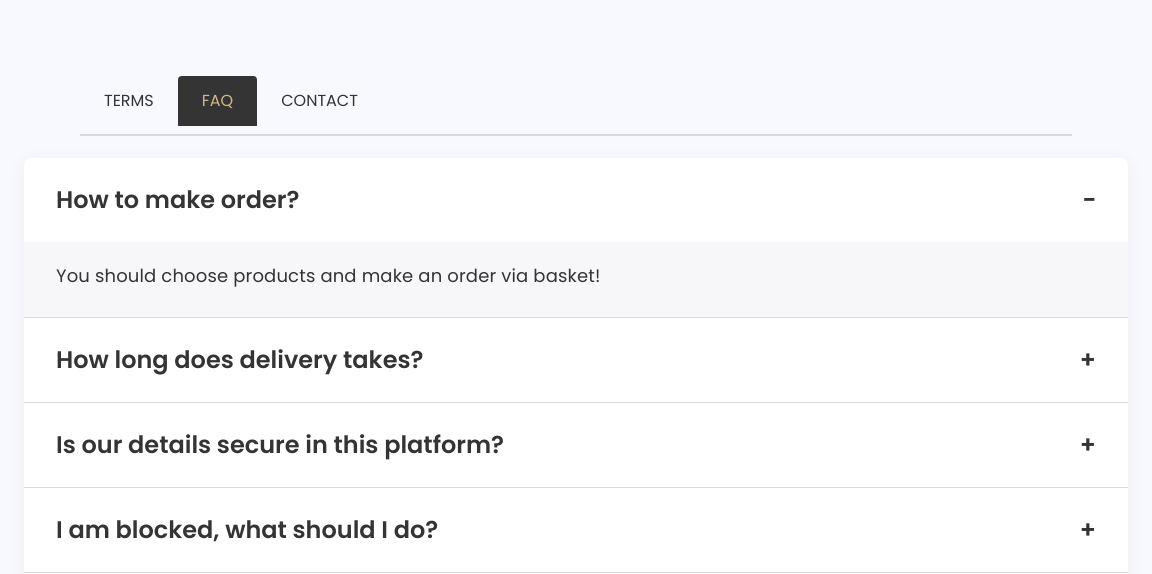
Test: FAQ expands and contact does not claim a message was sent
This screenshot has width=1152, height=574.
(page scrolled)
Click the button "How long does delivery takes? +" at (240, 360), box [24,318,1128,402]
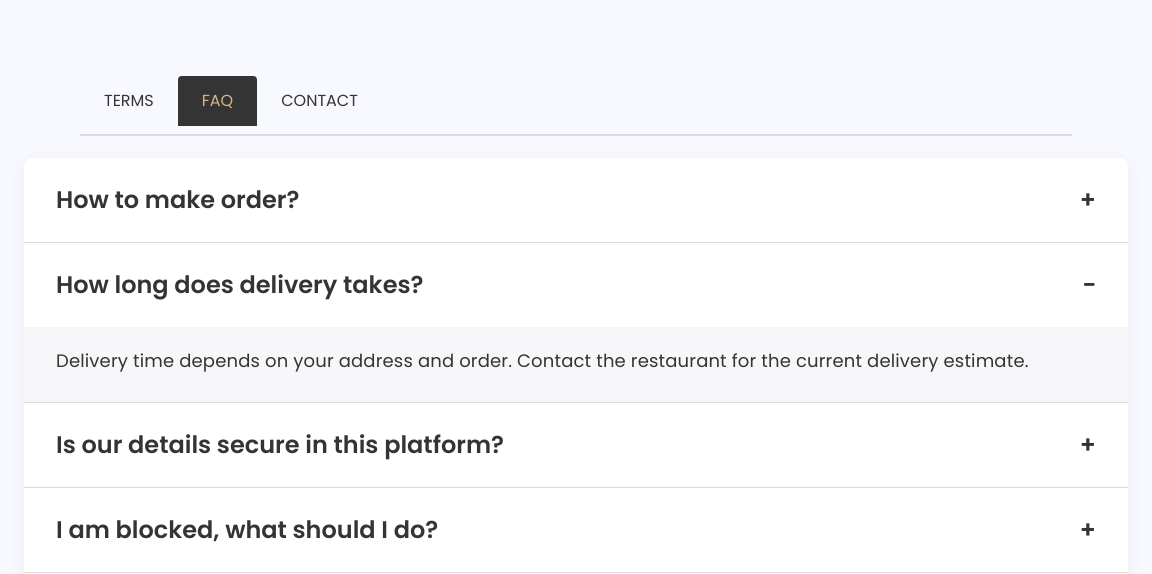
expect the text "Delivery time depends" is shown: met, box [56,348,1029,373]
Click the tab "CONTACT" at (320, 101), box [257,76,382,126]
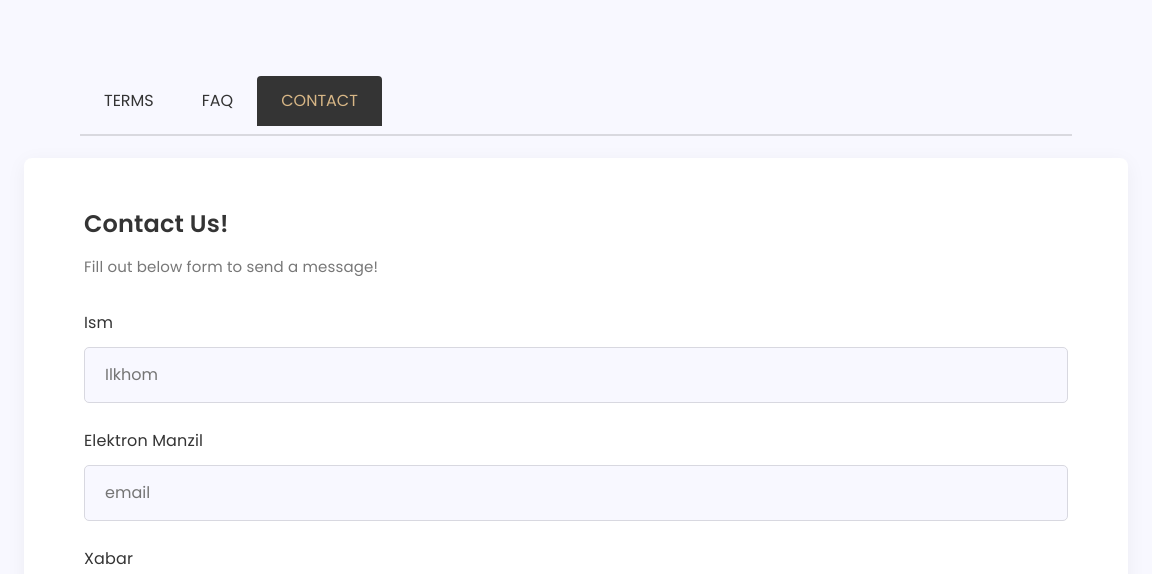
Type "Ali" into the field labelled "Ism" at (576, 374), box [84,346,1068,402]
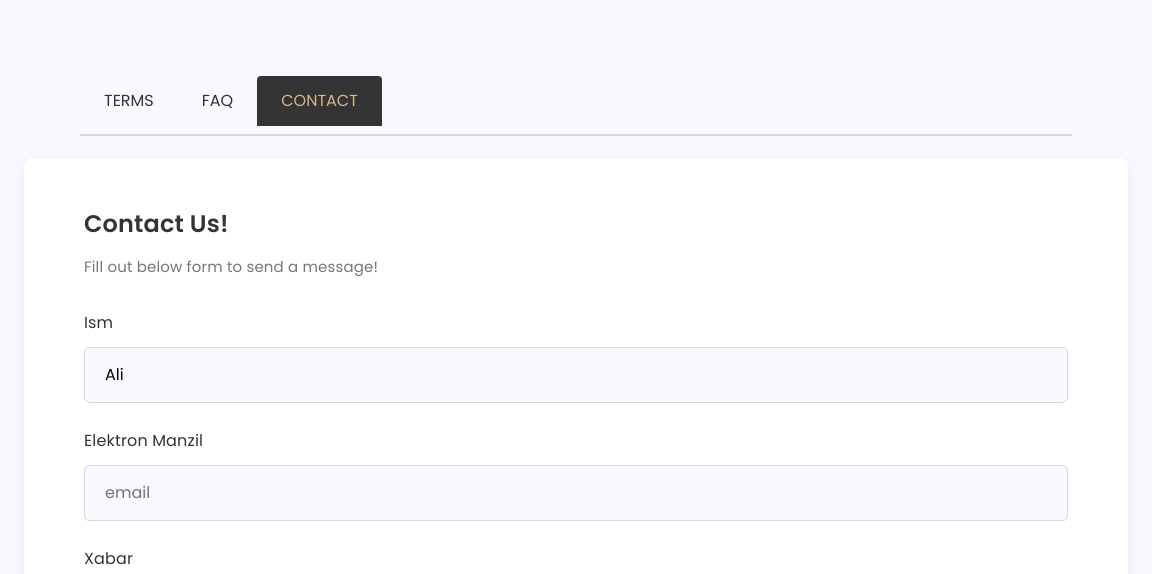
Type "ali@example.com" into the field labelled "Elektron Manzil" at (576, 492), box [84,464,1068,520]
(page scrolled)
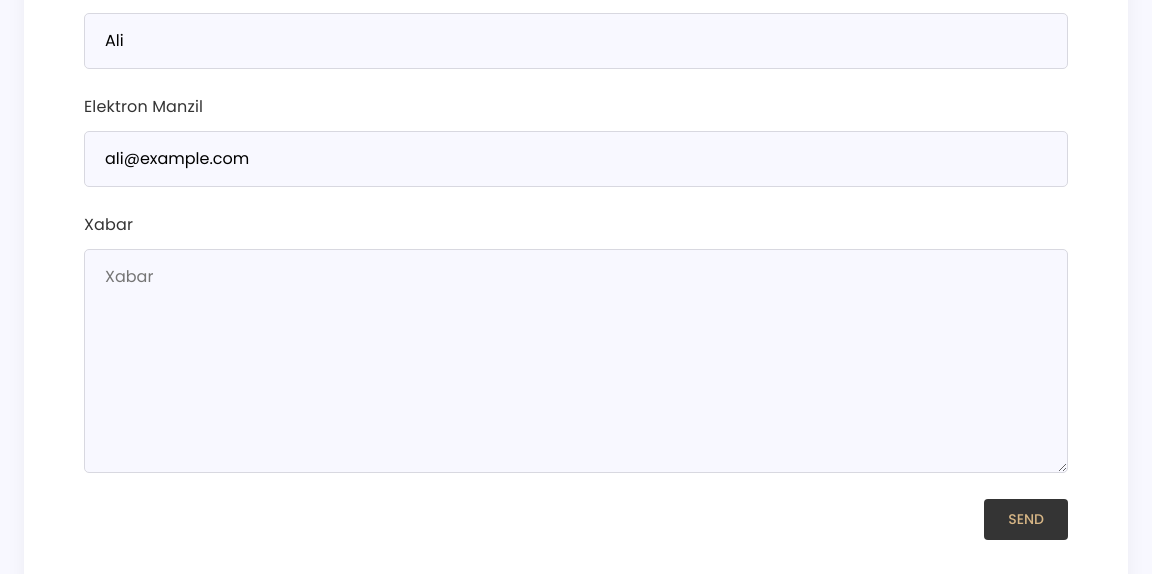
Type "Hello" into the text box labelled "Xabar" at (576, 360), box [84,248,1068,472]
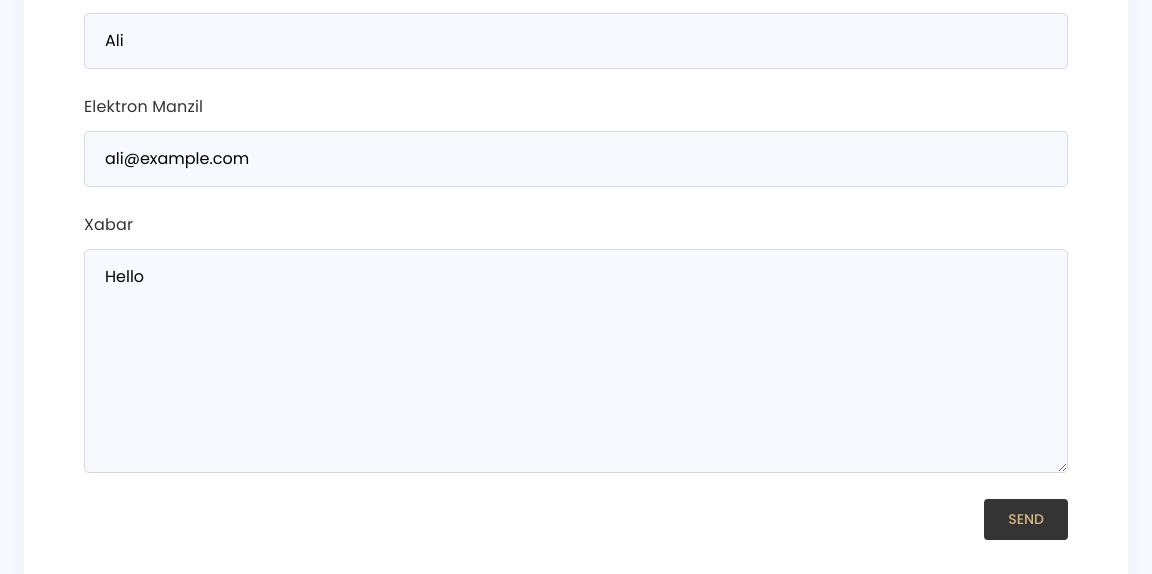
Click the button "SEND" at (1026, 519), box [984,498,1068,540]
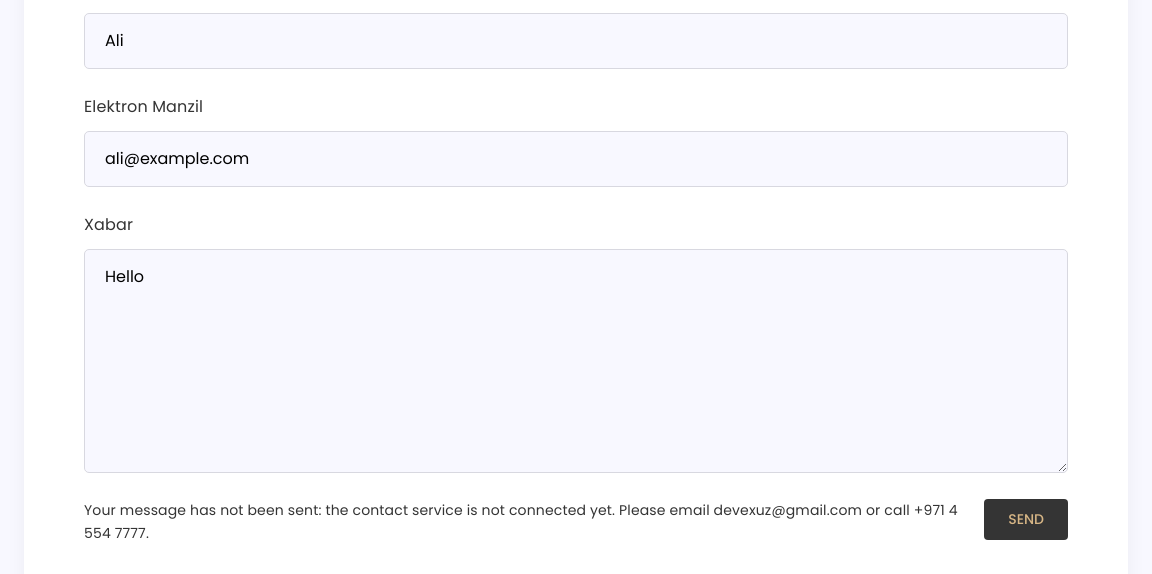
expect the text "Your message has not been sent" is shown: met, box [84,500,958,543]
